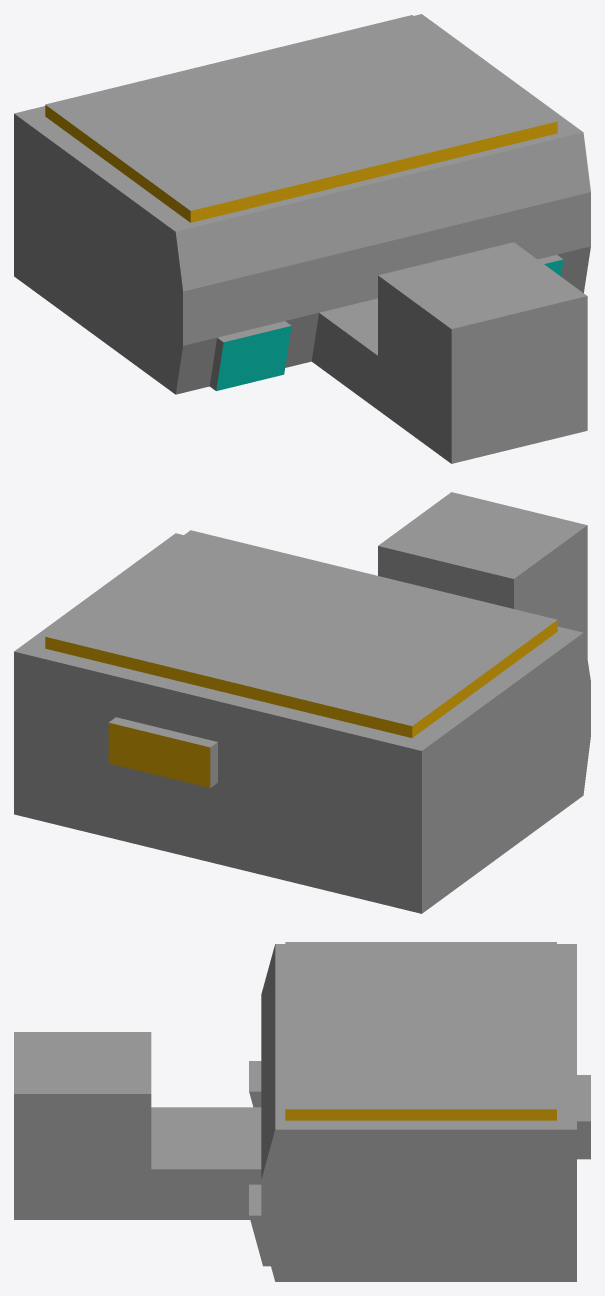
File: thisisbruh.fbx
3 views of the same model, one above another, from view 1: azimuth 30°, elevation 25°; view 2: azimuth 150°, elevation 25°; view 3: azimuth 270°, elevation 25° (orthographic). The views are drawn at different scales.
Parts seen in each view (by area): view 1: Cube.001; view 2: Cube.001; view 3: Cube.001.
Part boxes in pixels (x1=…): Cube.001: x1=14, y1=14, x2=590, y2=463; Cube.001: x1=14, y1=492, x2=590, y2=913; Cube.001: x1=14, y1=942, x2=590, y2=1281.
Size of the model in its own units: 3619 by 1482 by 4750.
